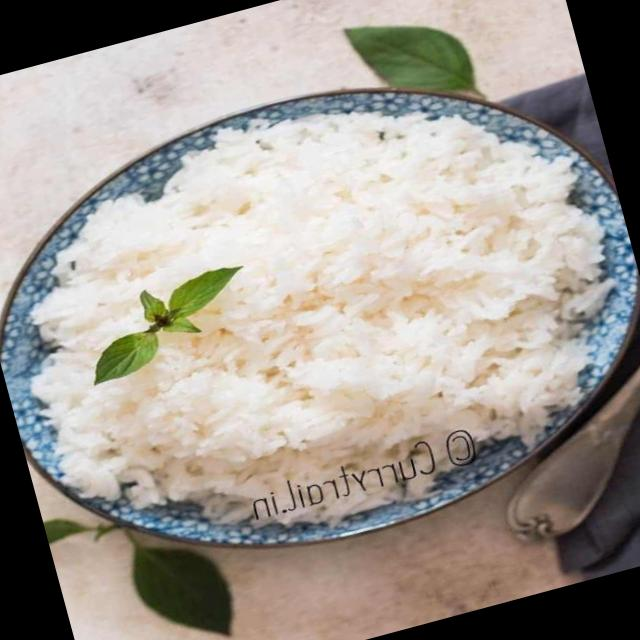rice: (22, 107, 611, 527)
